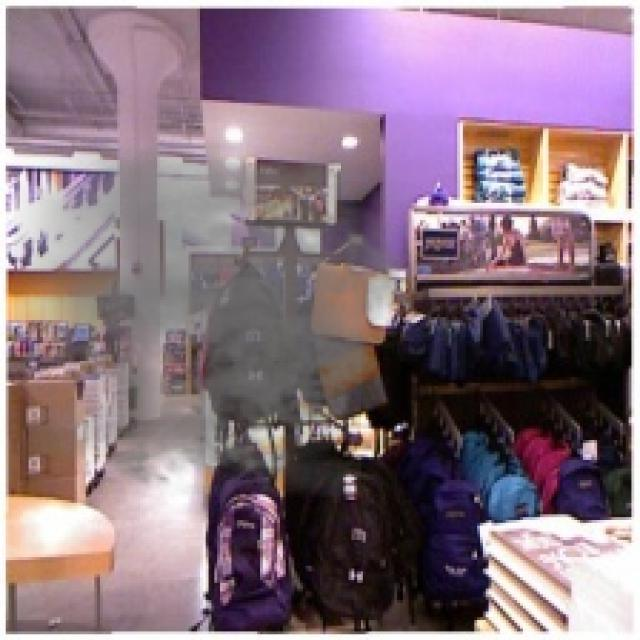Smoke: (14, 137, 429, 497)
